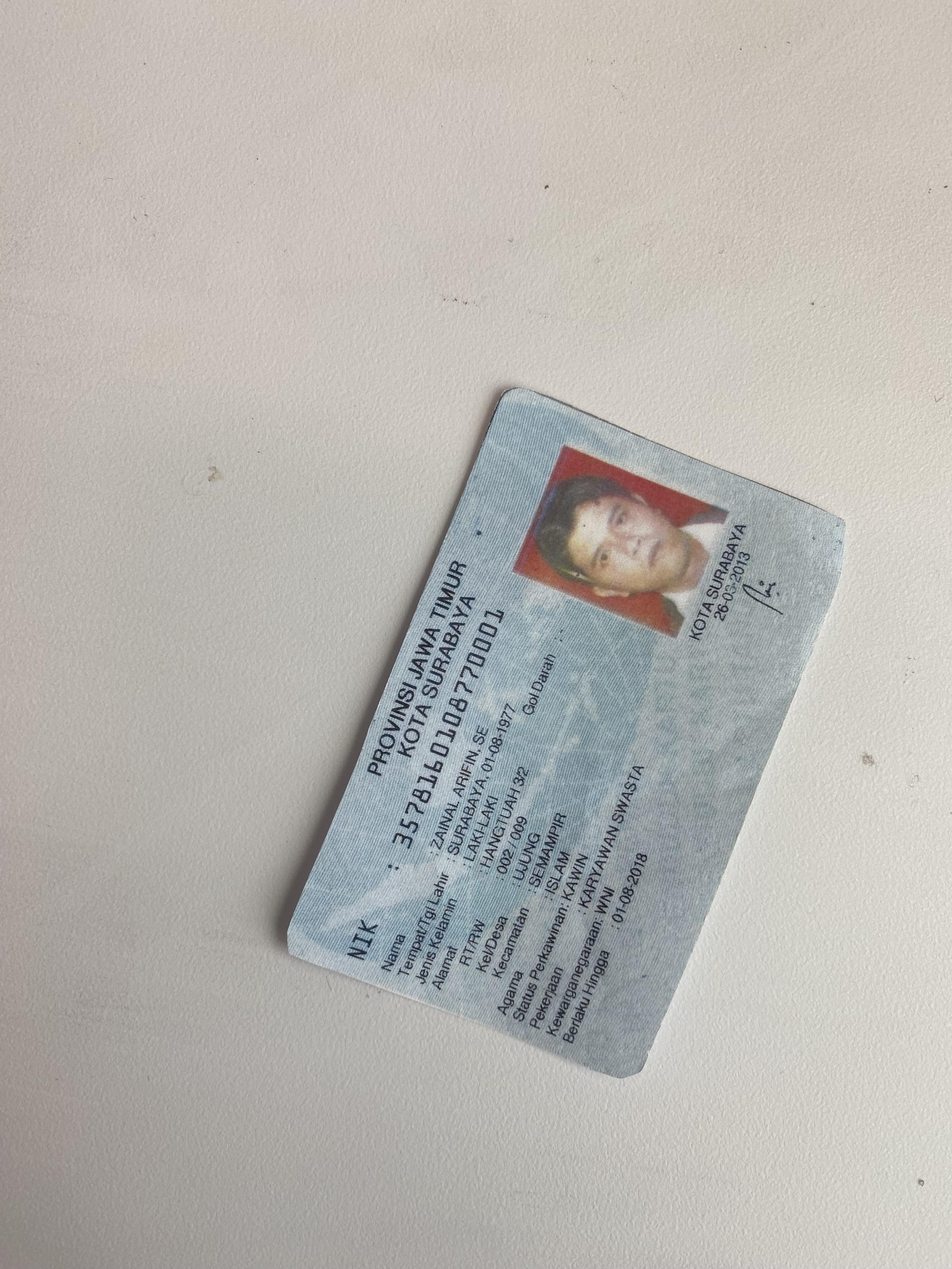ktp: (281, 383, 858, 1090)
